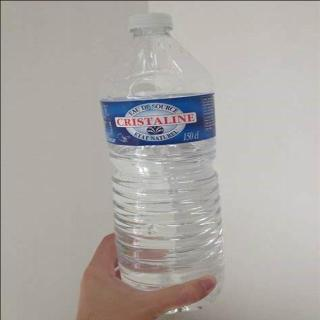Anorganik: (98, 9, 235, 318)
